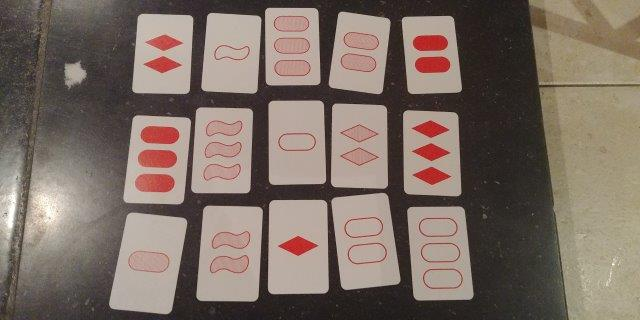1EP: (271, 102, 322, 183)
1EW: (208, 17, 255, 88)
1FD: (272, 203, 324, 290)
1HP: (126, 220, 171, 306)
2EP: (340, 199, 388, 284)
2FD: (138, 18, 187, 91)
2FP: (409, 18, 452, 92)
2HD: (335, 107, 383, 186)
2HP: (338, 19, 381, 85)
2HW: (204, 211, 257, 297)
3EP: (413, 211, 464, 294)
3FD: (407, 114, 457, 193)
3FP: (133, 119, 181, 200)
3HP: (268, 10, 316, 83)
3HW: (197, 111, 248, 190)
